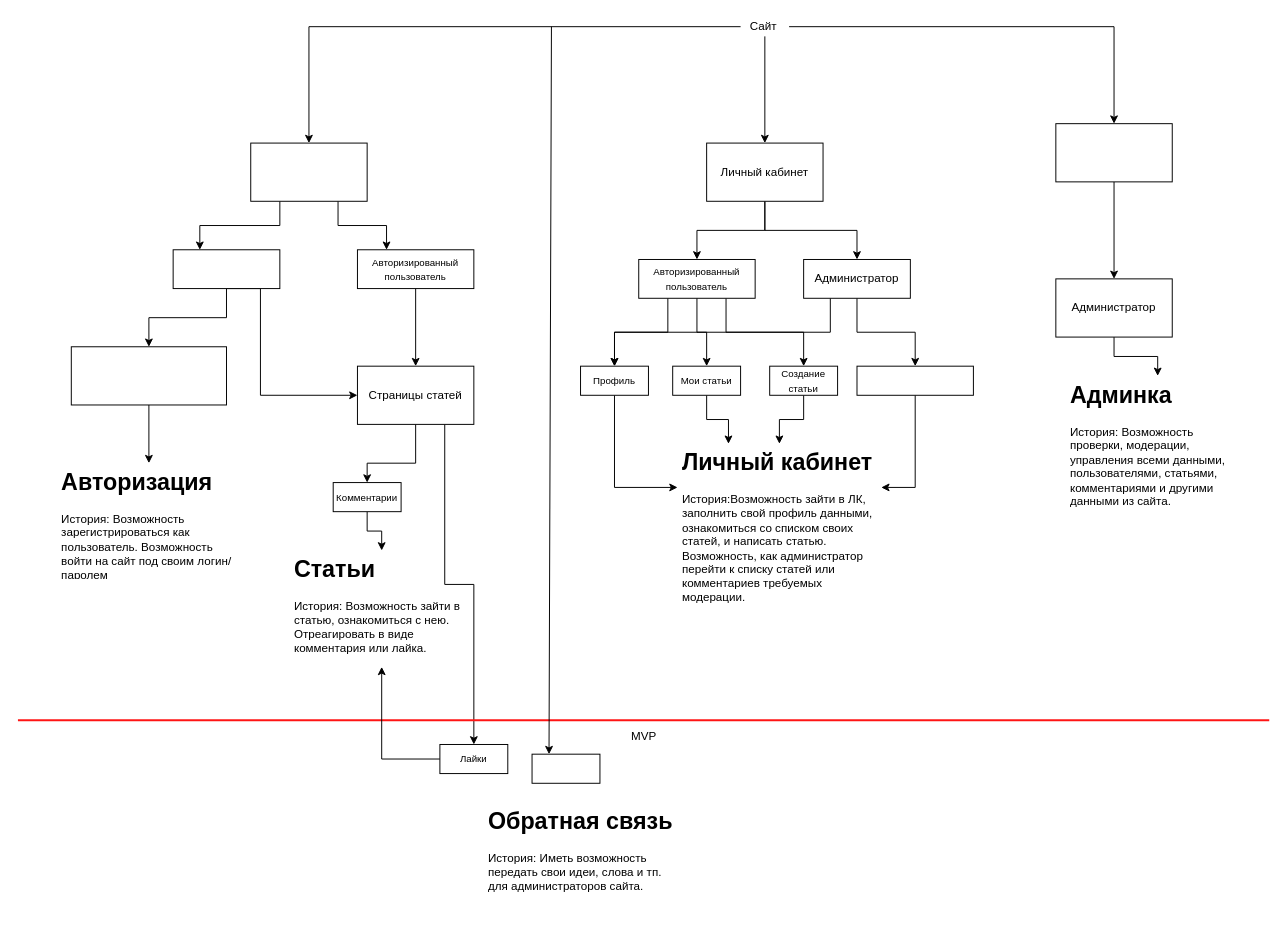
Some shapes in this 1286 by 935 pixel diagram are drawn without their labels. The centre of each missing label's shape, as x and y in pixels:
"Модерирование статей и комментариев" goes at point 914,380.
"Неавторизированный пользователь" goes at point 226,269.
"Обратная связь" goes at point 565,768.
"Панель Администратора" goes at point 1113,152.
"Страница авторизации / регистрации" goes at point 148,375.
"Страницы категорий" goes at point 308,171.
